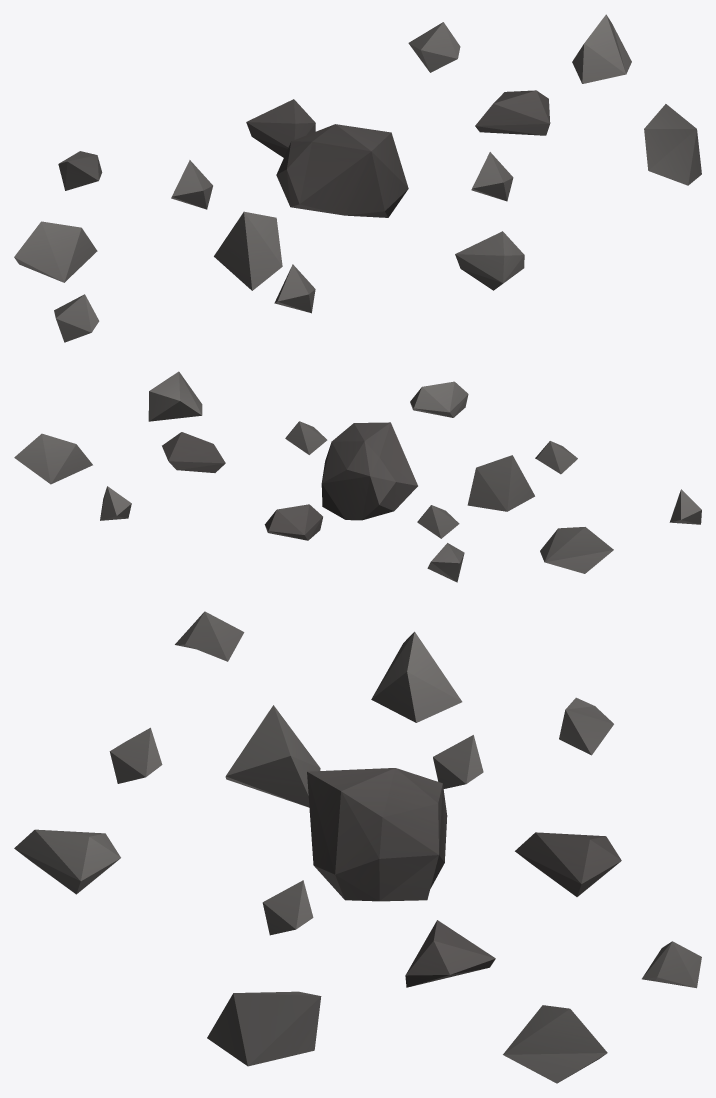
Rendered from ZLPC_Rock_E_9.FBX.
3 renders of one model, top to bottom at view 1: azimuth 30°, elevation 25°; view 2: azimuth 150°, elevation 25°; view 3: azimuth 270°, elevation 25°, orthographic. The views are drawn at different scales.
Parts seen in each view (by area): view 1: ZLPC_Rock_E_9; view 2: ZLPC_Rock_E_9; view 3: ZLPC_Rock_E_9.
Part boxes in pixels (left/top/right/bottom): ZLPC_Rock_E_9: left=14, top=14, right=701, bottom=342; ZLPC_Rock_E_9: left=14, top=371, right=701, bottom=582; ZLPC_Rock_E_9: left=14, top=611, right=701, bottom=1083.
Bounding box in the file's own units: 285 × 35.57 × 186.
1 material, 1 textured.
